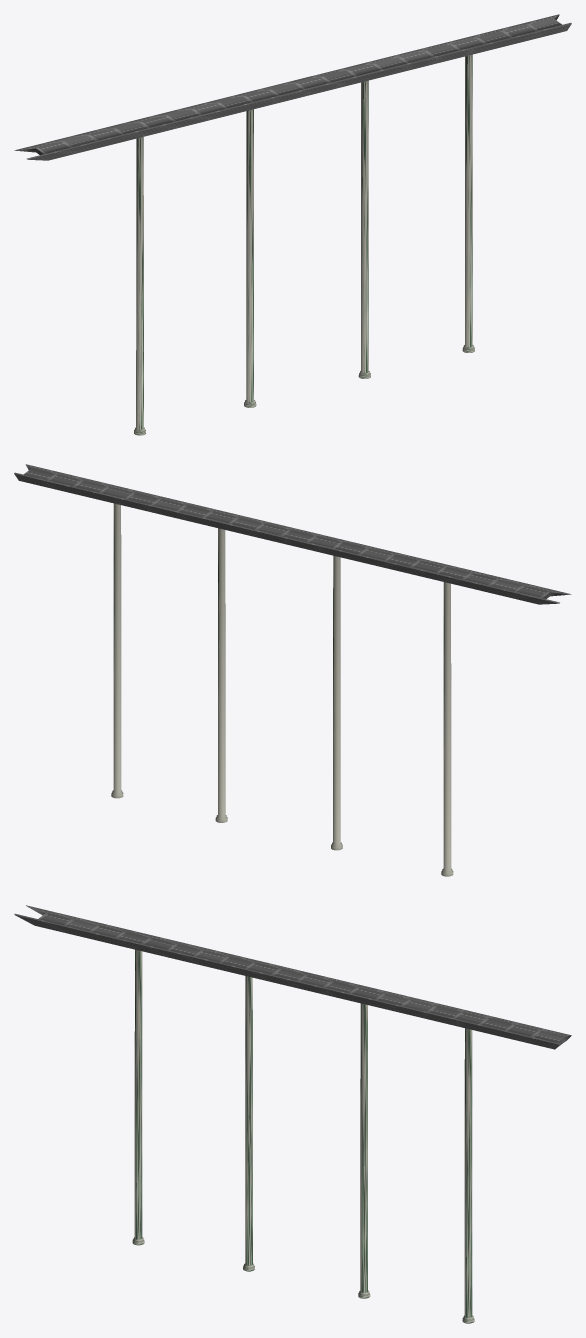
File: OneTierRunwayTextured.FBX
3 views of the same model, one above another, from view 1: azimuth 30°, elevation 25°; view 2: azimuth 150°, elevation 25°; view 3: azimuth 330°, elevation 25° (orthographic).
Parts seen in each view (by area): view 1: Box007, Cylinder039, Cylinder040, Cylinder038, Cylinder041; view 2: Box007, Cylinder038, Cylinder040, Cylinder041, Cylinder039; view 3: Box007, Cylinder038, Cylinder040, Cylinder041, Cylinder039.
Boxes of the visible parts, bbox=[...] form: Box007: bbox=[14, 14, 571, 160]; Cylinder039: bbox=[244, 109, 256, 407]; Cylinder040: bbox=[134, 137, 145, 435]; Cylinder038: bbox=[462, 54, 474, 352]; Cylinder041: bbox=[358, 80, 370, 378]; Box007: bbox=[14, 464, 571, 604]; Cylinder038: bbox=[111, 503, 123, 798]; Cylinder040: bbox=[441, 582, 453, 876]; Cylinder041: bbox=[215, 528, 227, 822]; Cylinder039: bbox=[331, 555, 342, 850]; Box007: bbox=[14, 905, 571, 1049]; Cylinder038: bbox=[462, 1028, 474, 1323]; Cylinder040: bbox=[132, 949, 144, 1245]; Cylinder041: bbox=[358, 1003, 370, 1298]; Cylinder039: bbox=[243, 976, 254, 1271].
Bounding box in the file's own units: 1349 × 723 × 68.25.
Materials: 2 (2 with a texture image).
